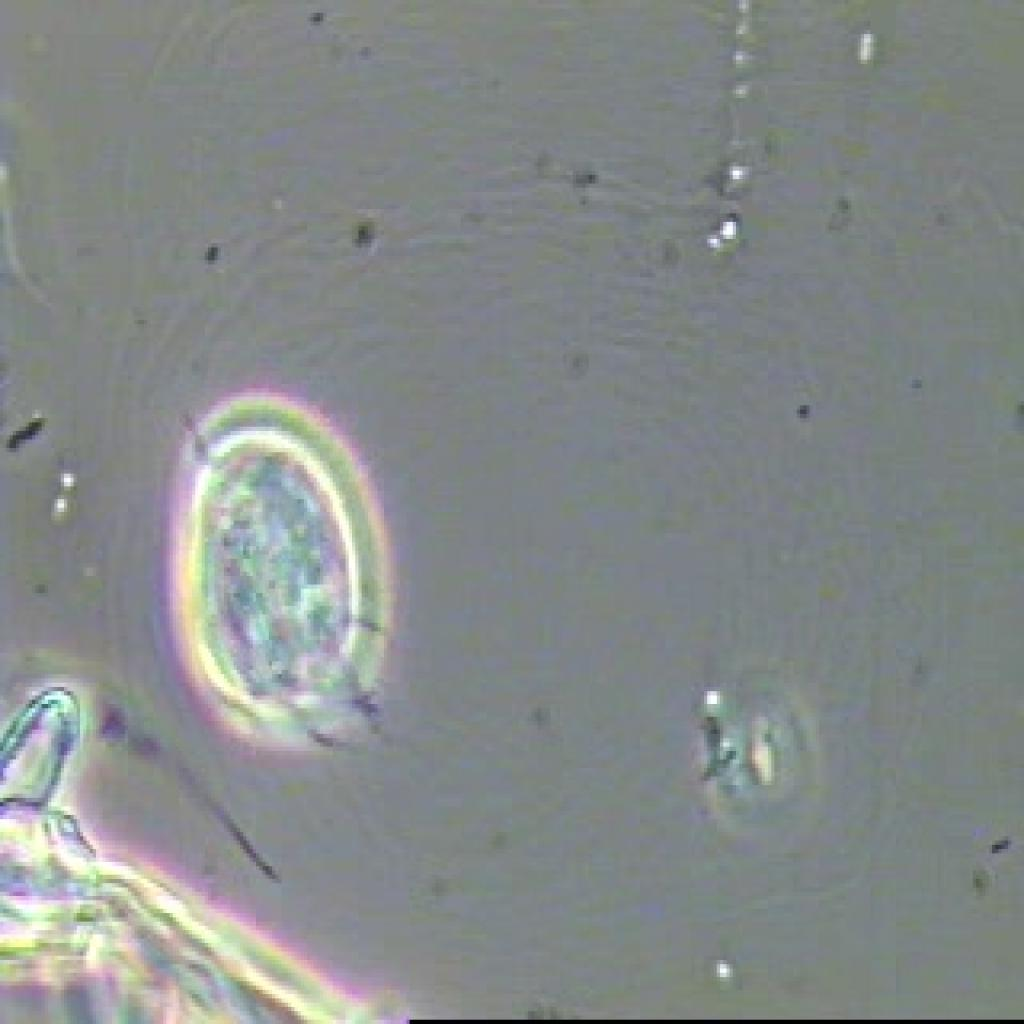Aspidisca: (144, 384, 429, 747)
